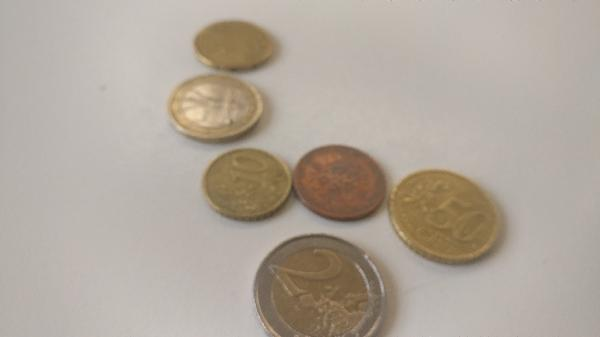Fifty Cent: (389, 165, 497, 259)
Five Cent: (291, 141, 387, 219)
One Euro: (169, 74, 265, 139)
Ten Cent: (203, 147, 293, 219)
Twenty Cent: (197, 19, 274, 72)
Two Euro: (253, 230, 394, 337)
